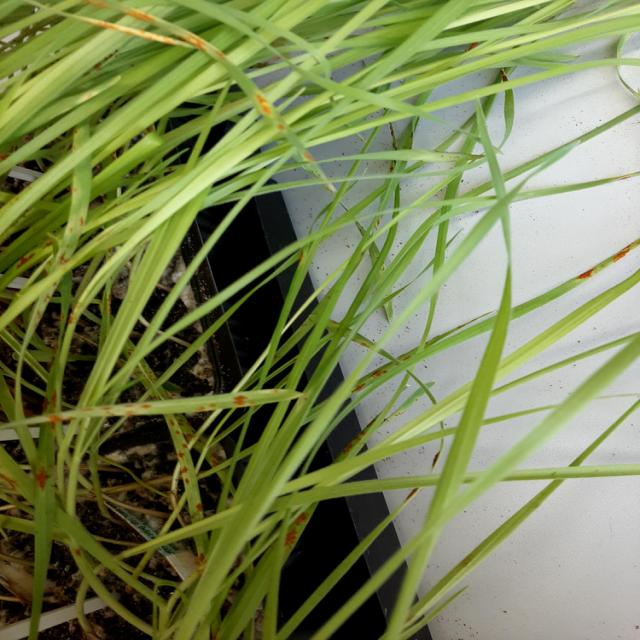wheat-stemrust: (79, 394, 291, 417)
